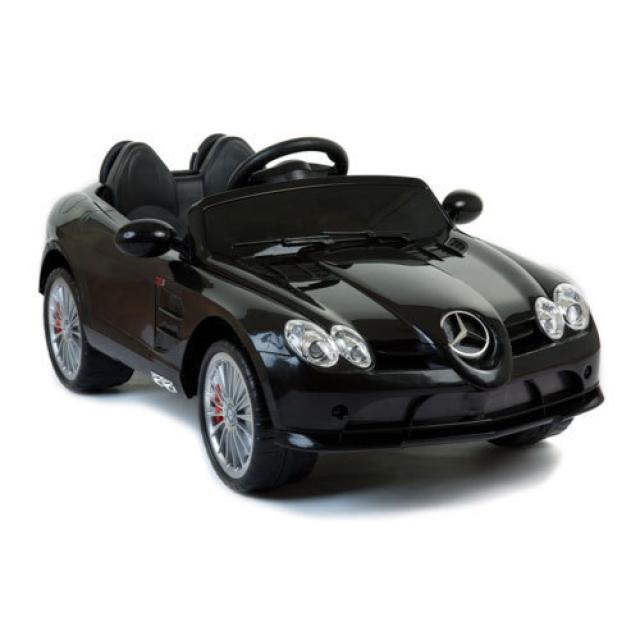Car: (37, 132, 606, 494)
